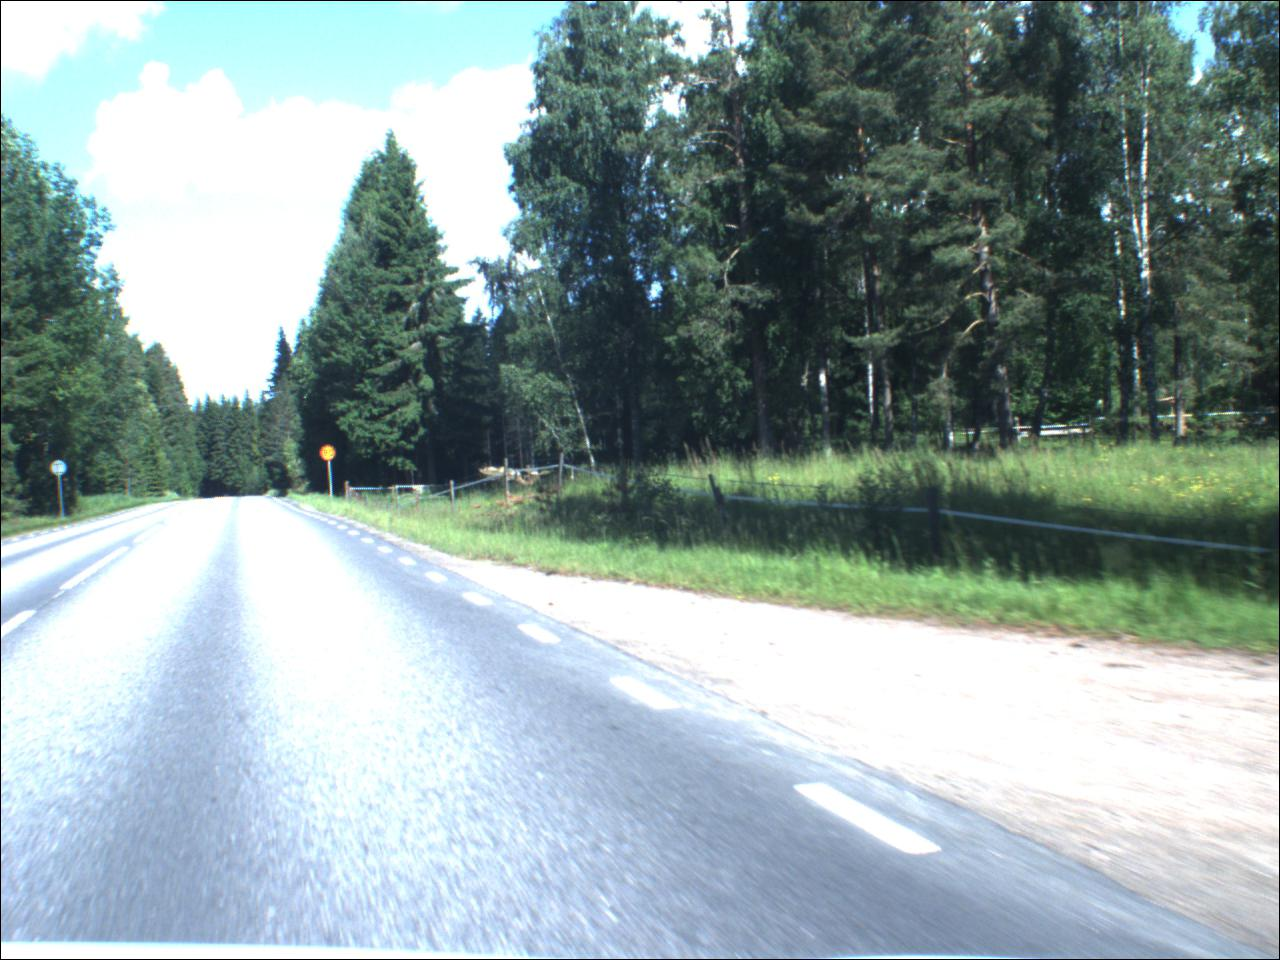80_SIGN: (321, 446, 341, 464)
